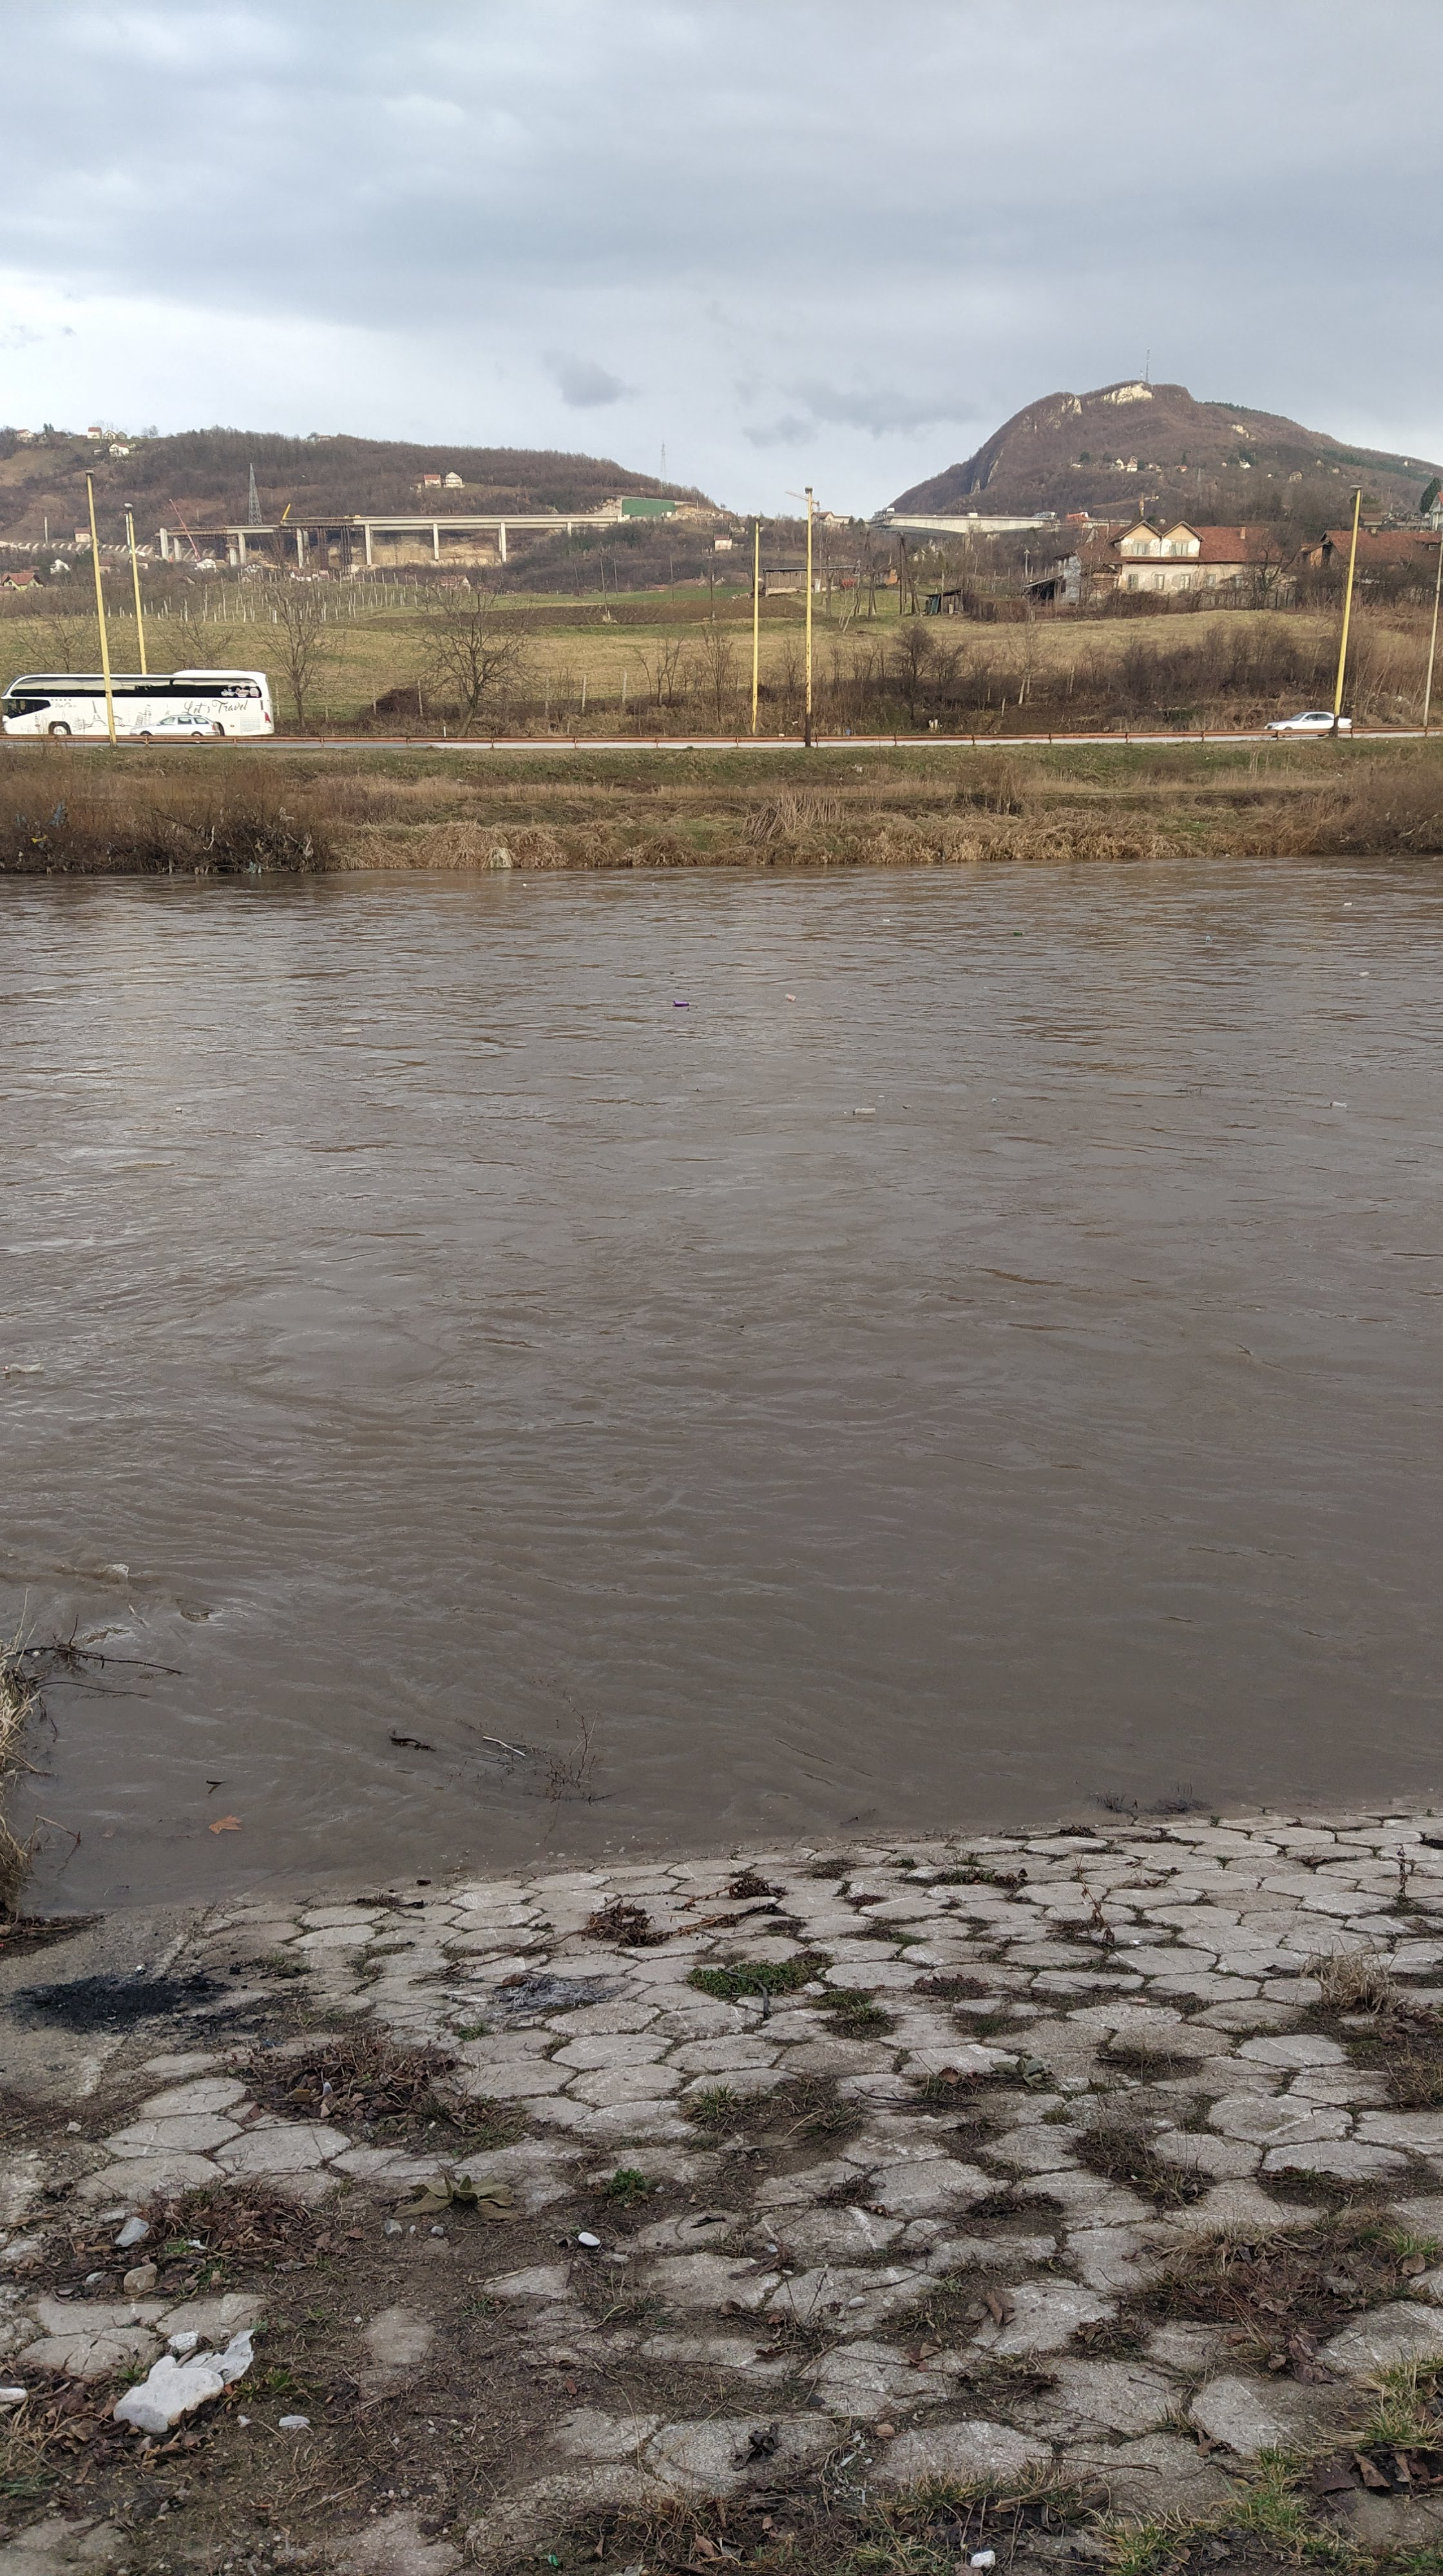Plastic Bottle: (852, 1108, 876, 1115), (342, 1026, 363, 1033), (783, 993, 795, 1001), (675, 1001, 691, 1007), (1330, 1102, 1346, 1108), (1360, 971, 1369, 978), (992, 1099, 999, 1104), (1346, 902, 1353, 906), (882, 918, 889, 922), (1206, 934, 1209, 939), (1015, 931, 1020, 934)
